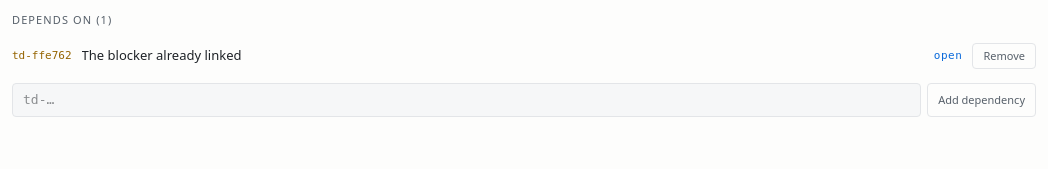
DependencyPanel › offers neither the issue itself nor a blocker it already has
Click the dropdown named "Depends on". click: (467, 100)
box: [12,83,921,116]
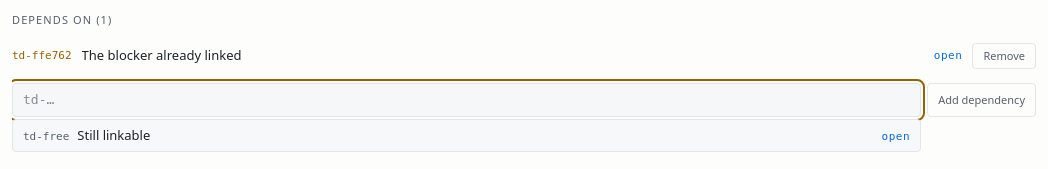
Expected: the option shows "Still linkable", [23,126,910,144]
Expected: the number of options is 1, [23,126,910,144]
